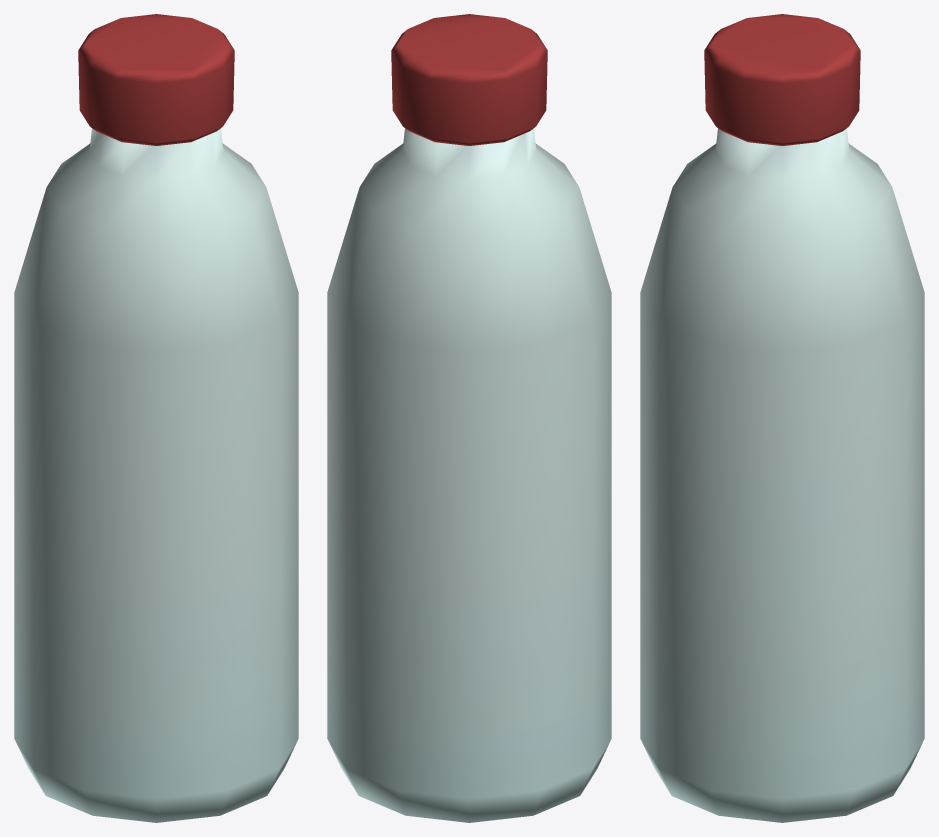
The model's file is Juice Bottle.fbx.
3 renders of one model, left to right at view 1: azimuth 30°, elevation 25°; view 2: azimuth 150°, elevation 25°; view 3: azimuth 270°, elevation 25°, orthographic.
Parts seen in each view (by area): view 1: Juice Bottle; view 2: Juice Bottle; view 3: Juice Bottle.
Boxes of the visible parts, x1,y1,x2,y2 form: Juice Bottle: (14, 14, 298, 822); Juice Bottle: (327, 14, 611, 822); Juice Bottle: (640, 14, 924, 822).
Bounding box in the file's own units: 14.02 × 40.15 × 14.02.
